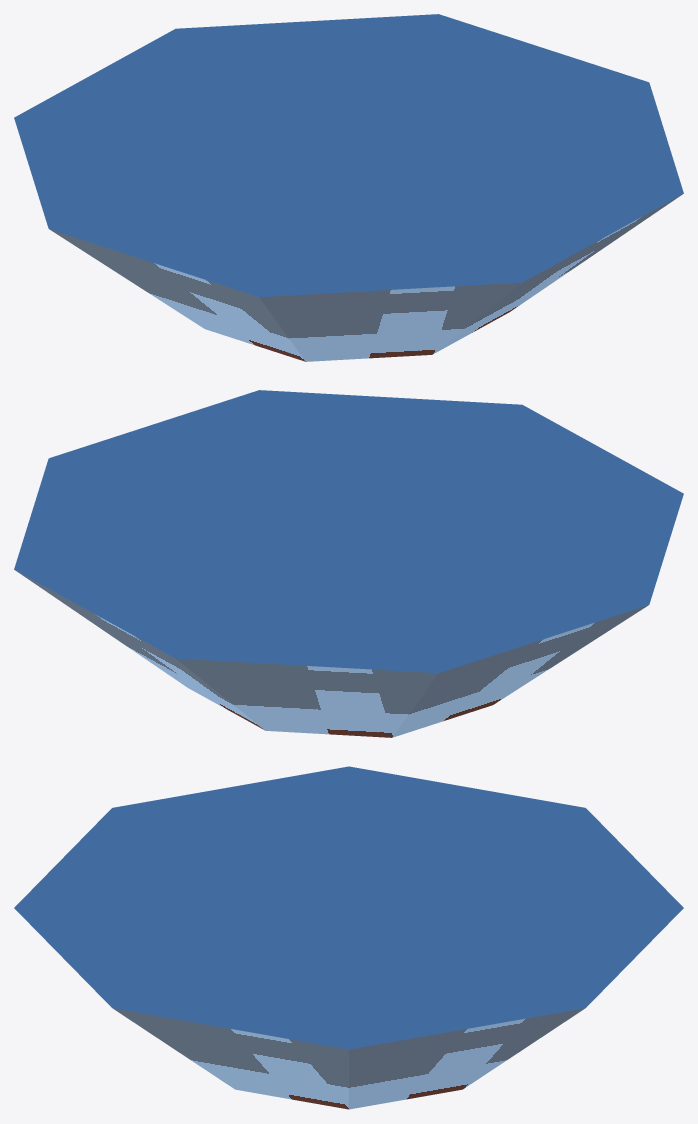
Rendered from wprop.bucket__basin.glb.
3 renders of one model, top to bottom at view 1: azimuth 30°, elevation 25°; view 2: azimuth 150°, elevation 25°; view 3: azimuth 270°, elevation 25°, orthographic. The views are drawn at different scales.
Parts seen in each view (by area): view 1: kit_basin; view 2: kit_basin; view 3: kit_basin.
Boxes of the visible parts, x1=… form: kit_basin: x1=14, y1=14, x2=683, y2=361; kit_basin: x1=14, y1=390, x2=683, y2=737; kit_basin: x1=14, y1=766, x2=683, y2=1109.
Bounding box in the file's own units: 0.5 × 0.11 × 0.5.
3 materials, 3 textured.
